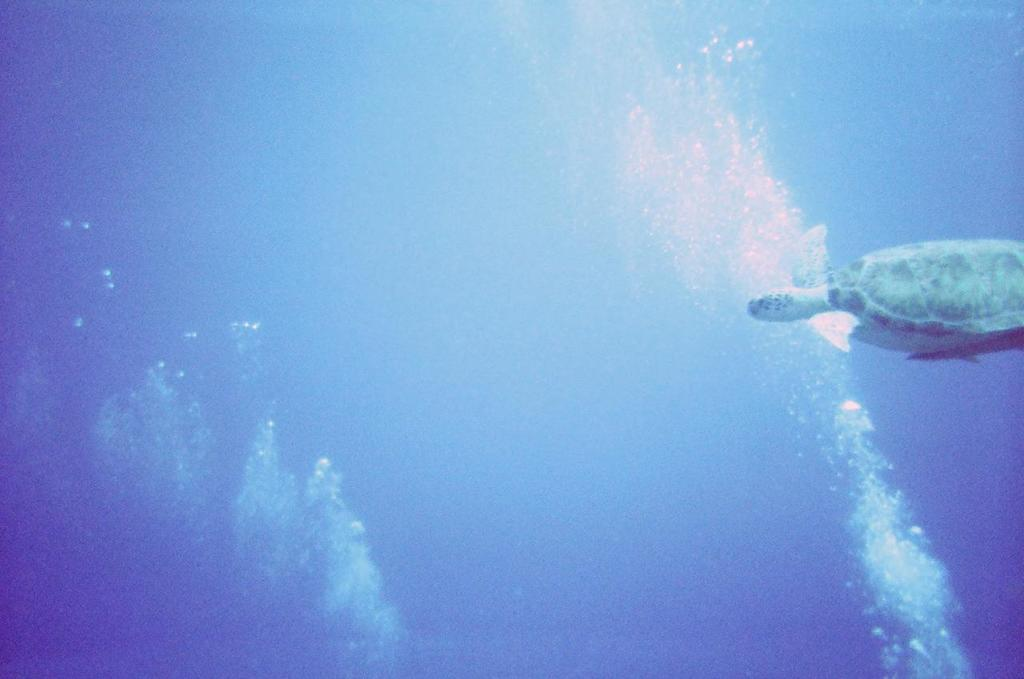Sea turtles: (744, 231, 1023, 365)
